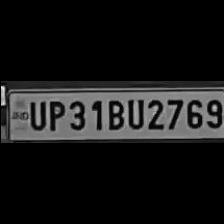1: (86, 97, 104, 131)
2: (144, 97, 162, 131)
3: (64, 97, 86, 131)
6: (183, 96, 203, 128)
7: (163, 96, 181, 130)
9: (203, 96, 221, 128)
B: (104, 96, 124, 130)
P: (46, 96, 64, 132)
U: (125, 96, 143, 130), (26, 97, 44, 130)
